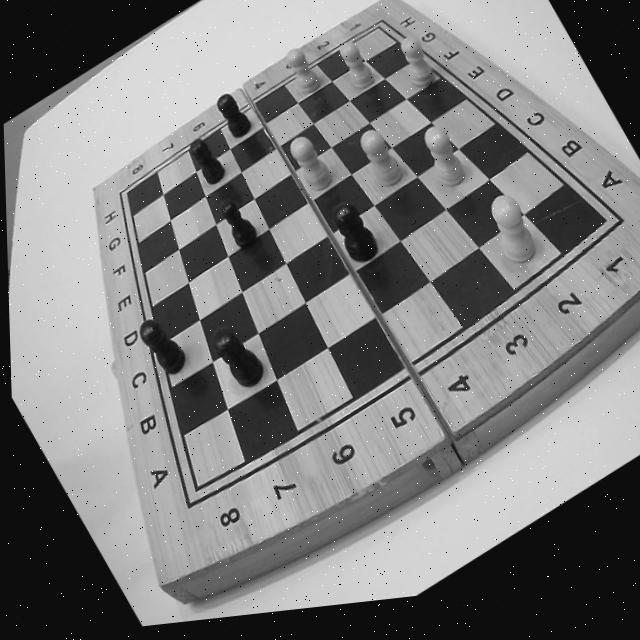chessboard: (123, 33, 607, 497)
